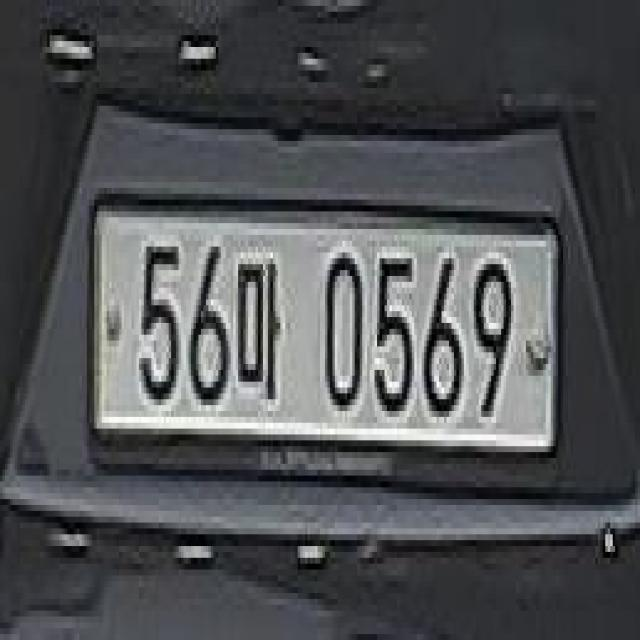illegal_plate: (91, 180, 562, 502)
